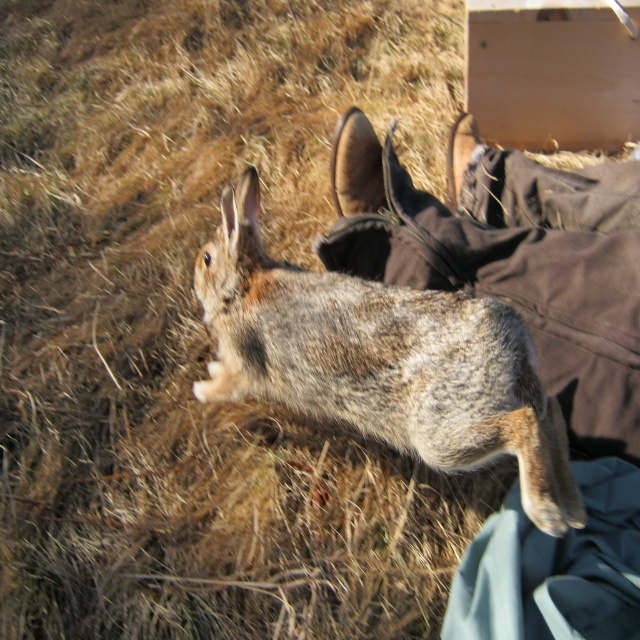Rabbit: (191, 166, 589, 538)
